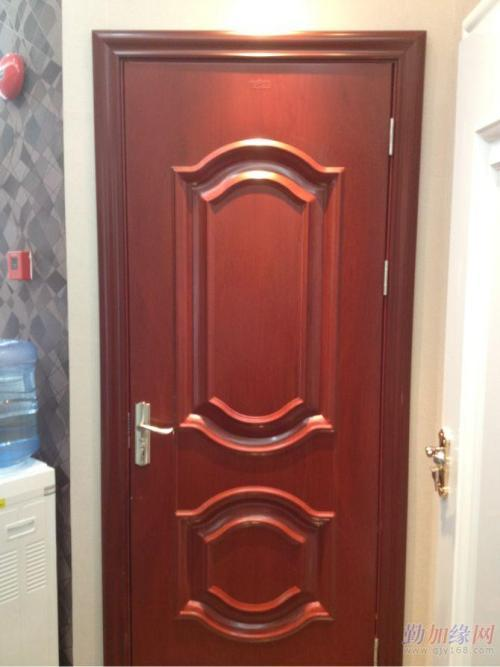door: (106, 38, 385, 667)
